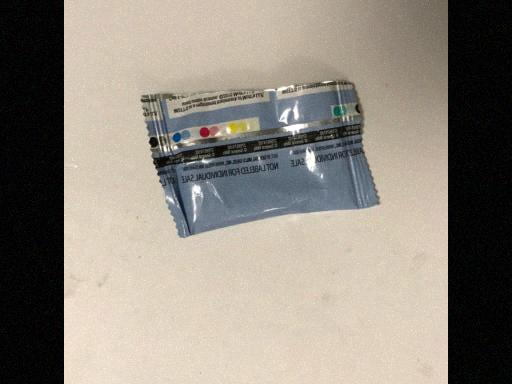trash: (139, 80, 383, 239)
